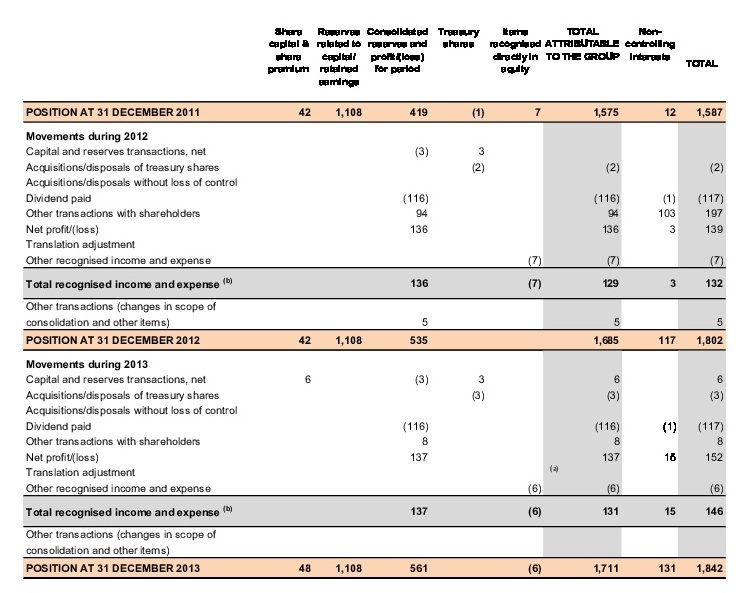table: (0, 0, 743, 593)
